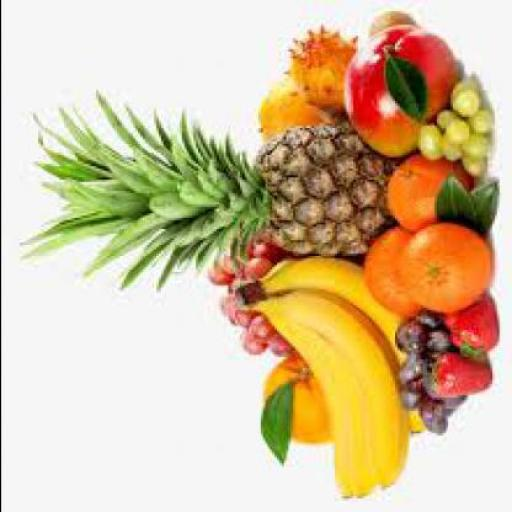biodegradable: (18, 90, 269, 288), (240, 290, 406, 489), (236, 251, 415, 433), (248, 299, 371, 496), (251, 121, 387, 257), (339, 22, 459, 158), (396, 220, 489, 314), (281, 25, 352, 117), (385, 151, 468, 227), (260, 352, 328, 442), (359, 222, 419, 315), (252, 88, 315, 136), (444, 294, 496, 351), (426, 352, 490, 396), (382, 52, 424, 117), (257, 382, 289, 462), (433, 178, 473, 224), (366, 9, 412, 49), (462, 180, 494, 236), (417, 368, 459, 409), (415, 400, 444, 433), (390, 319, 419, 351), (246, 312, 273, 344), (413, 124, 437, 159), (239, 249, 266, 279), (420, 326, 452, 350), (394, 380, 423, 406), (464, 130, 489, 158), (447, 76, 470, 106), (394, 348, 417, 377), (449, 90, 470, 119), (209, 254, 238, 274), (204, 263, 234, 282), (440, 119, 461, 143), (458, 155, 482, 175), (251, 236, 275, 256), (243, 330, 264, 352), (466, 110, 489, 130), (410, 308, 438, 324), (218, 292, 239, 312), (227, 301, 246, 323), (266, 335, 288, 354), (440, 142, 461, 158), (432, 108, 448, 126), (234, 308, 250, 326), (220, 276, 236, 292)
